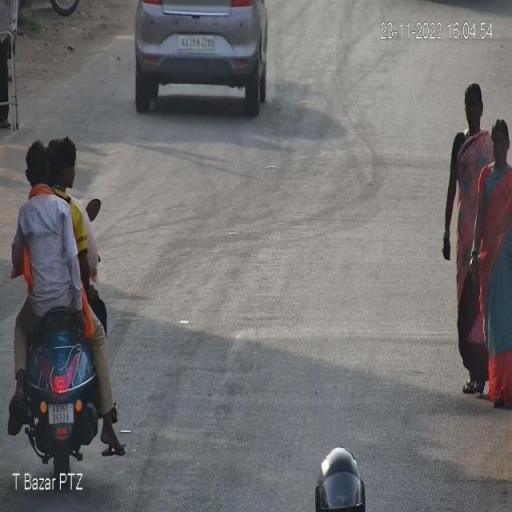tripple riding: (5, 133, 105, 308)
